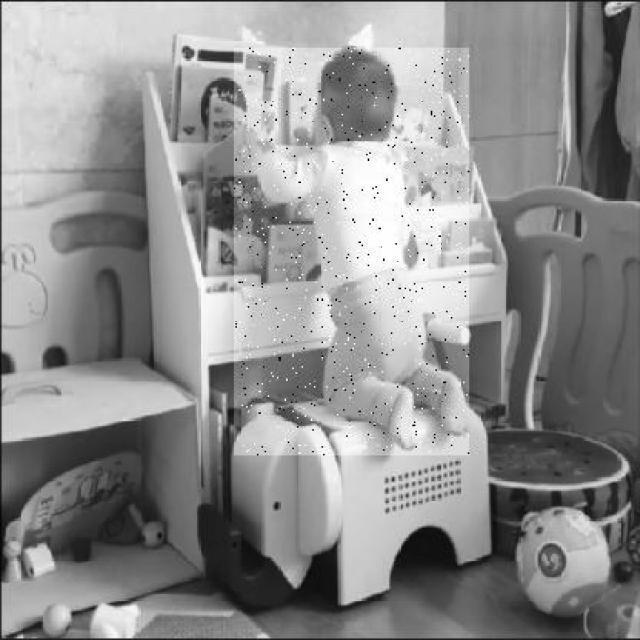child: (234, 48, 470, 456)
